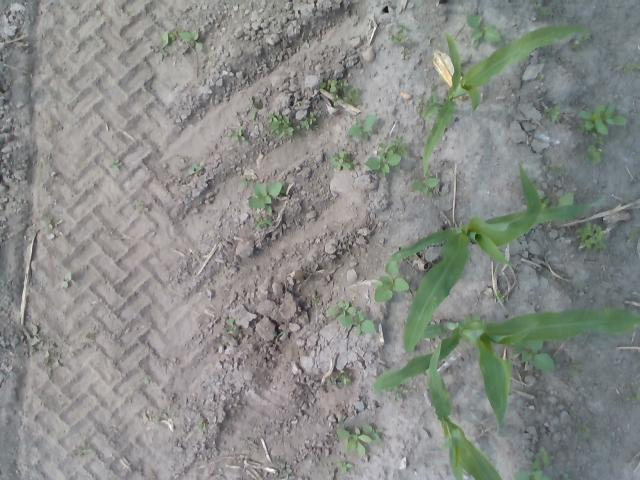Maize: (390, 164, 605, 352), (371, 307, 640, 438), (422, 23, 590, 174), (429, 321, 503, 480)
Weeds: (578, 102, 628, 146), (365, 134, 408, 178), (336, 418, 384, 456), (328, 301, 378, 337), (369, 260, 410, 302), (510, 338, 554, 372), (465, 12, 506, 48), (248, 180, 286, 214), (319, 78, 363, 106), (264, 111, 300, 138), (574, 222, 606, 252), (388, 23, 414, 56), (410, 170, 439, 199), (347, 113, 378, 140), (179, 28, 204, 52), (158, 28, 178, 58), (328, 150, 358, 170), (417, 95, 442, 119), (530, 446, 552, 469), (22, 324, 40, 352), (511, 468, 552, 480), (298, 110, 320, 132), (384, 384, 409, 402), (326, 370, 351, 388), (536, 189, 555, 210), (544, 102, 563, 122), (582, 145, 603, 163), (615, 60, 640, 73), (220, 316, 237, 335), (568, 36, 586, 52), (252, 216, 272, 230), (230, 126, 247, 142), (536, 5, 554, 20), (248, 95, 258, 120), (492, 288, 507, 304), (336, 461, 354, 474), (557, 192, 574, 205), (61, 271, 73, 288), (627, 390, 640, 405), (568, 362, 584, 374), (187, 163, 203, 175), (109, 158, 122, 172), (462, 313, 482, 322), (626, 229, 638, 243), (76, 446, 90, 458), (140, 371, 151, 385), (198, 418, 208, 432), (40, 220, 54, 230), (598, 300, 612, 310), (154, 413, 169, 422), (581, 426, 592, 438), (548, 164, 560, 174), (242, 174, 252, 186), (273, 460, 286, 468), (312, 293, 320, 305), (554, 270, 566, 278), (537, 74, 546, 82), (429, 82, 438, 90), (561, 474, 572, 480), (296, 101, 302, 106)
